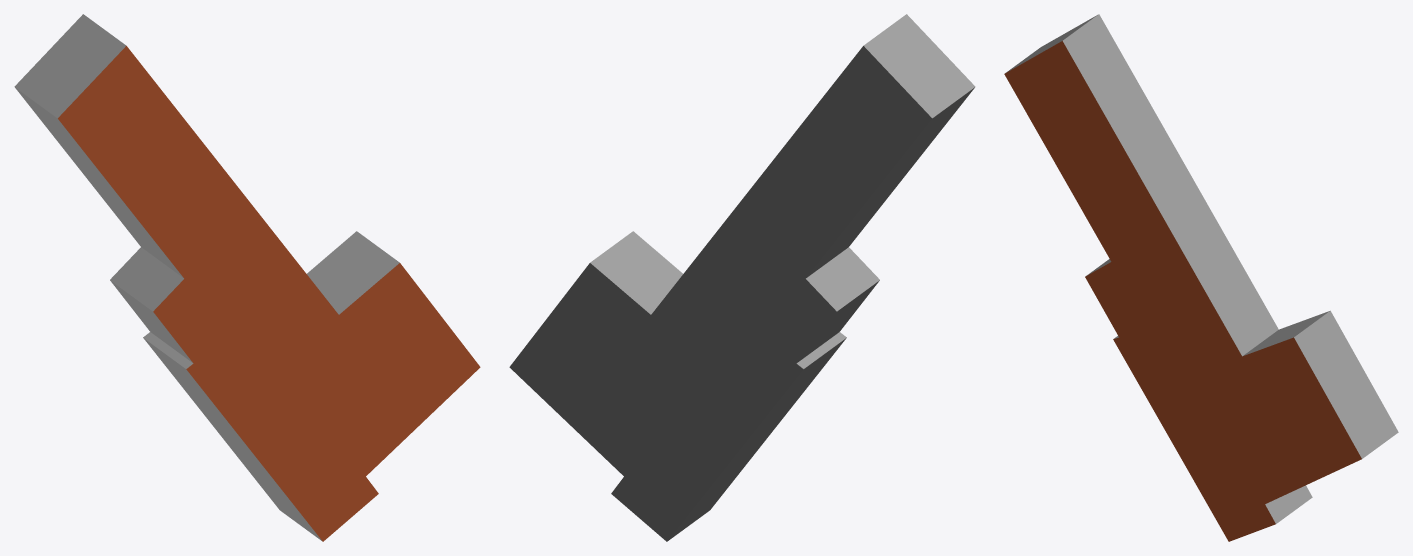
The model's file is construction_1546_assumed_A_Casa_h6m.obj.
3 views of the same model, side by side, from view 1: azimuth 30°, elevation 25°; view 2: azimuth 150°, elevation 25°; view 3: azimuth 330°, elevation 25° (orthographic). The views are drawn at different scales.
Visible parts, largest first — view 1: construction_1546_assumed_A_Casa; view 2: construction_1546_assumed_A_Casa; view 3: construction_1546_assumed_A_Casa.
Boxes of the visible parts, left/top/right/bottom form: construction_1546_assumed_A_Casa: left=14, top=14, right=480, bottom=541; construction_1546_assumed_A_Casa: left=509, top=14, right=975, bottom=541; construction_1546_assumed_A_Casa: left=1004, top=14, right=1398, bottom=541.
Bounding box in the file's own units: 33.84 × 41.61 × 6.
